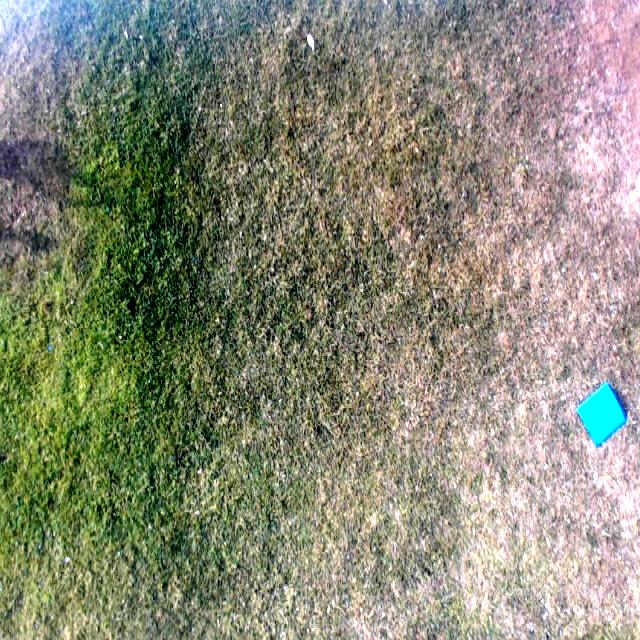blue_square: (576, 376, 629, 453)
